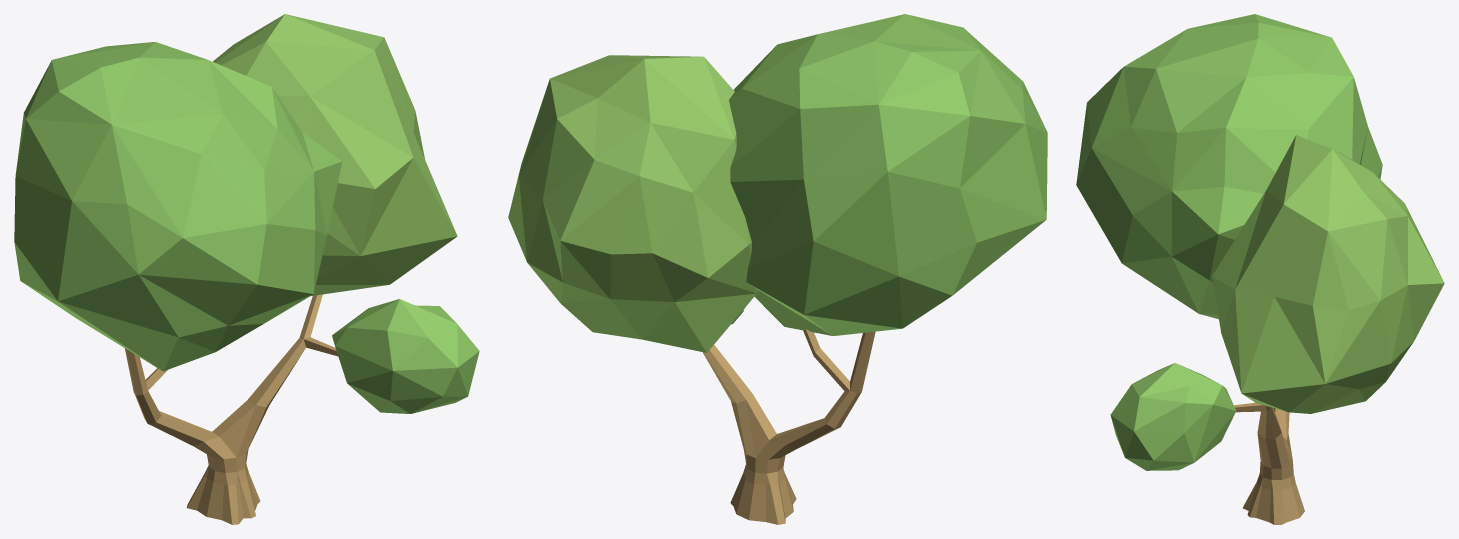
The model's file is Oak_Tree_l_02.fbx.
3 views of the same model, side by side, from view 1: azimuth 30°, elevation 25°; view 2: azimuth 150°, elevation 25°; view 3: azimuth 270°, elevation 25° (orthographic). The views are drawn at different scales.
Visible parts, largest first — view 1: Oak_Tree_l_02; view 2: Oak_Tree_l_02; view 3: Oak_Tree_l_02.
Boxes of the visible parts, bbox=[...] form: Oak_Tree_l_02: bbox=[14, 14, 479, 524]; Oak_Tree_l_02: bbox=[508, 14, 1047, 524]; Oak_Tree_l_02: bbox=[1076, 14, 1444, 524].
Size of the model in its own units: 1138 by 1157 by 898.
